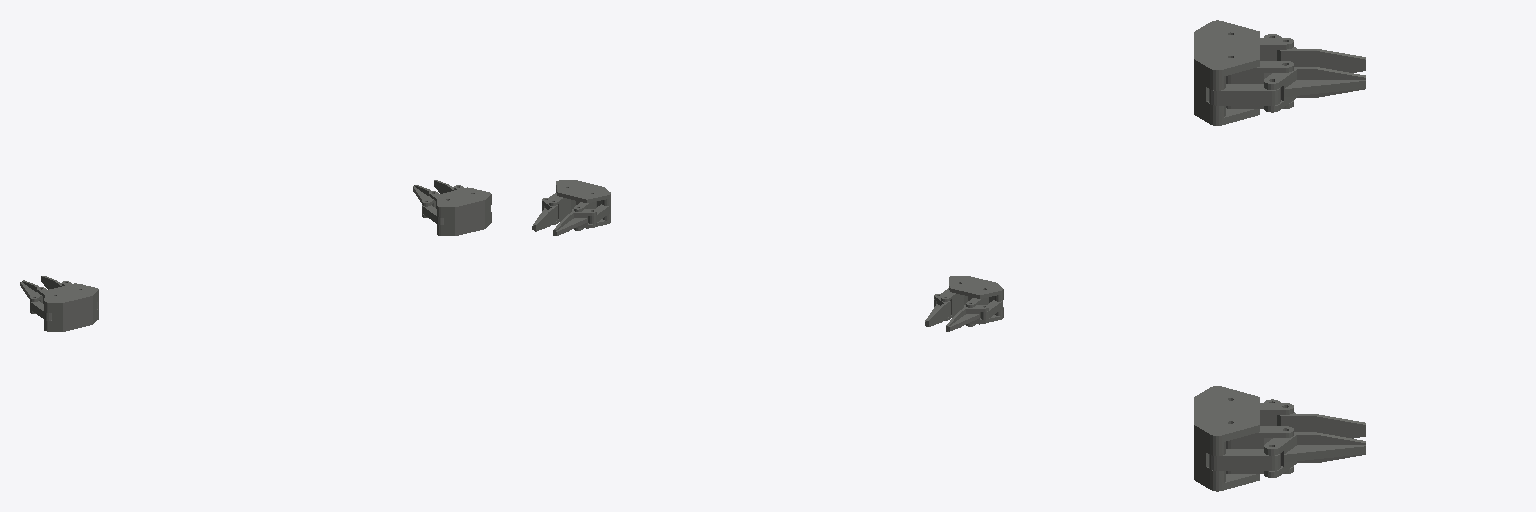
--- Facts derived from the render (not from the file) ---
Views: 3 orthographic renders of the robot side by side, from view 1: azimuth 30°, elevation 25°; view 2: azimuth 150°, elevation 25°; view 3: azimuth 270°, elevation 25°.
Robot: bimanual — 31 links, 30 joints (22 revolute, 2 continuous, 6 fixed); root link world; default pose: every joint at zero.
Links seen in each view (by area): view 1: right_gripper_base, left_gripper_base; view 2: left_gripper_base, right_gripper_base, right_l_finger, left_l_finger; view 3: right_gripper_base, left_gripper_base, right_r_finger, left_r_finger, left_l_finger, right_l_finger, left_r_outer, right_r_outer, left_r_inner, right_r_inner, right_l_inner, left_l_inner.
Link boxes in pixels (left/top/right/bottom): right_gripper_base: left=437, top=187, right=491, bottom=235; left_gripper_base: left=44, top=283, right=98, bottom=331; left_gripper_base: left=949, top=276, right=1003, bottom=324; right_gripper_base: left=556, top=180, right=610, bottom=228; right_l_finger: left=553, top=209, right=596, bottom=235; left_l_finger: left=946, top=305, right=988, bottom=331; right_gripper_base: left=1194, top=386, right=1259, bottom=491; left_gripper_base: left=1194, top=20, right=1259, bottom=125; right_r_finger: left=1264, top=432, right=1365, bottom=477; left_r_finger: left=1264, top=67, right=1365, bottom=112; left_l_finger: left=1264, top=34, right=1365, bottom=72; right_l_finger: left=1264, top=399, right=1365, bottom=438; left_r_outer: left=1209, top=84, right=1280, bottom=105; right_r_outer: left=1209, top=449, right=1280, bottom=470; left_r_inner: left=1226, top=61, right=1293, bottom=108; right_r_inner: left=1226, top=426, right=1293, bottom=473; right_l_inner: left=1260, top=403, right=1293, bottom=425; left_l_inner: left=1260, top=38, right=1293, bottom=60.
Bounding box of the posed robot: 1.14 × 0.1979 × 0.0709 m (x, y, z).
Meshes: 13 distinct files referenced, 14 mesh visuals loaded (6 Collada DAE); not drawn: 14 (reference not matched to a file when rendering).

URDF robot description (bimanual):
<?xml version="1.0" ?>
<!-- =================================================================================== -->
<!-- |    This document was autogenerated by xacro from [local-path]/catkin_ws/src/grips/grips_description/robots/bimanual.xacro | -->
<!-- |    EDITING THIS FILE BY HAND IS NOT RECOMMENDED                                 | -->
<!-- =================================================================================== -->
<robot name="bimanual" xmlns:xacro="http://www.ros.org/wiki/xacro">
  <!-- Import common macros-->
  <!-- Import materials for rviz-->
  <material name="black">
    <color rgba="0.0 0.0 0.0 1.0"/>
  </material>
  <material name="blue">
    <color rgba="0.0 0.0 0.8 1.0"/>
  </material>
  <material name="green">
    <color rgba="0.0 0.8 0.0 1.0"/>
  </material>
  <material name="grey">
    <color rgba="0.2 0.2 0.2 1.0"/>
  </material>
  <material name="orange">
    <color rgba="1.0 0.423529411765 0.0392156862745 1.0"/>
  </material>
  <material name="brown">
    <color rgba="0.870588235294 0.811764705882 0.764705882353 1.0"/>
  </material>
  <material name="red">
    <color rgba="0.8 0.0 0.0 1.0"/>
  </material>
  <material name="white">
    <color rgba="1.0 1.0 1.0 1.0"/>
  </material>
  <material name="metal_seamed">
    <color rgba="0.4627450980392157 0.4666666666666667 0.4509803921568628 1.0"/>
  </material>
  <!-- Import robot without gripper -->
  <!-- Import simple gripper -->
  <!-- Create the grips robots -->
  <link name="left_base_link">
    <visual>
      <geometry>
        <mesh filename="package://grips_description/meshes/visual/base.dae"/>
      </geometry>
      <material name="black"/>
    </visual>
    <collision>
      <geometry>
        <mesh filename="package://grips_description/meshes/collision/base.dae"/>
      </geometry>
    </collision>
    <inertial>
      <origin rpy="0 0 0" xyz="0 0 7e-3"/>
      <mass value="1.208"/>
      <inertia ixx="0.003" ixy="0.0" ixz="0.0" iyy="0.003" iyz="0.0" izz="0.006"/>
    </inertial>
  </link>
  <link name="left_manifold">
    <visual>
      <geometry>
        <mesh filename="package://grips_description/meshes/visual/manifold.dae"/>
      </geometry>
      <material name="blue"/>
    </visual>
    <collision>
      <geometry>
        <mesh filename="package://grips_description/meshes/collision/manifold.dae"/>
      </geometry>
    </collision>
    <inertial>
      <origin rpy="0 0 0" xyz="0 2e-3 0.21"/>
      <mass value="41.111"/>
      <inertia ixx="0.549" ixy="-9.556e-5" ixz="-5.871e-5" iyy="0.855" iyz="2e-3" izz="0.605"/>
    </inertial>
  </link>
  <link name="left_upper_arm">
    <visual>
      <geometry>
        <mesh filename="package://grips_description/meshes/visual/upper_arm.dae"/>
      </geometry>
      <material name="black"/>
    </visual>
    <collision>
      <geometry>
        <mesh filename="package://grips_description/meshes/collision/upper_arm.dae"/>
      </geometry>
    </collision>
    <inertial>
      <origin rpy="0 0 0" xyz="0 5e-3 0.227"/>
      <mass value="3.592"/>
      <inertia ixx="0.103" ixy="0" ixz="0" iyy="0.106" iyz="0.004" izz="0.013"/>
    </inertial>
  </link>
  <link name="left_forearm">
    <visual>
      <geometry>
        <mesh filename="package://grips_description/meshes/visual/forearm.dae"/>
      </geometry>
      <material name="black"/>
    </visual>
    <collision>
      <geometry>
        <mesh filename="package://grips_description/meshes/collision/forearm.dae"/>
      </geometry>
    </collision>
    <inertial>
      <origin rpy="0 0 0" xyz="0 0.155337 0.012119"/>
      <mass value="4.935"/>
      <inertia ixx="0.073" ixy="0" ixz="0" iyy="0.009" iyz="0.004" izz="0.073"/>
    </inertial>
  </link>
  <link name="left_pitch">
    <visual>
      <geometry>
        <mesh filename="package://grips_description/meshes/visual/pitch.dae"/>
      </geometry>
      <material name="black"/>
    </visual>
    <collision>
      <geometry>
        <mesh filename="package://grips_description/meshes/collision/pitch.dae"/>
      </geometry>
    </collision>
    <inertial>
      <origin rpy="0 0 0" xyz="0 0.065 0"/>
      <mass value="0.679"/>
      <inertia ixx="0.003" ixy="0" ixz="0" iyy="0.002" iyz="0.004" izz="0.002"/>
    </inertial>
  </link>
  <link name="left_yaw">
    <visual>
      <geometry>
        <mesh filename="package://grips_description/meshes/visual/yaw.dae"/>
      </geometry>
      <material name="black"/>
    </visual>
    <collision>
      <geometry>
        <mesh filename="package://grips_description/meshes/collision/yaw.dae"/>
      </geometry>
    </collision>
    <inertial>
      <origin rpy="0 0 0" xyz="-1e-3 95.791e-3 18.273e-3"/>
      <mass value="4.689"/>
      <inertia ixx="0.027" ixy="1.597e-4" ixz="-2.174e-4" iyy="0.009" iyz="-0.003" izz="0.026"/>
    </inertial>
  </link>
  <link name="left_end_effector"/>
  <link name="left_camera">
    <visual>
      <geometry>
        <mesh filename="package://grips_description/meshes/visual/camera.dae"/>
      </geometry>
      <material name="black"/>
    </visual>
    <collision>
      <geometry>
        <mesh filename="package://grips_description/meshes/collision/camera.dae"/>
      </geometry>
    </collision>
    <inertial>
      <origin rpy="0 0 0" xyz="0.077 0.007 0.002"/>
      <mass value="0.869"/>
      <inertia ixx="0.001" ixy="-1.561e-4" ixz="-5.859e-5" iyy="0.002" iyz="3.295e-5" izz="0.002"/>
    </inertial>
  </link>
  <joint name="left_SA" type="revolute">
    <child link="left_manifold"/>
    <parent link="left_base_link"/>
    <axis xyz="0 0 1"/>
    <origin rpy="0 0 0" xyz="0 0 15.24e-3"/>
    <limit effort="200" lower="-1.57079632679" upper="1.57079632679" velocity="1.3962634016"/>
    <dynamics damping="5"/>
  </joint>
  <joint name="left_SE" type="revolute">
    <child link="left_upper_arm"/>
    <parent link="left_manifold"/>
    <axis xyz="1 0 0"/>
    <origin rpy="0 0 0" xyz="0 0 0.33812"/>
    <limit effort="200" lower="-1.57079632679" upper="0.523598775598" velocity="1.1344640138"/>
    <dynamics damping="5" friction="10"/>
  </joint>
  <joint name="left_linkage_tr" type="revolute">
    <child link="left_forearm"/>
    <parent link="left_upper_arm"/>
    <axis xyz="1 0 0"/>
    <origin rpy="0 0 0" xyz="0 -9.82e-3 0.52167"/>
    <limit effort="200" lower="-1.28" upper="1.0471975512" velocity="0.872664625997"/>
    <dynamics damping="10"/>
  </joint>
  <joint name="left_WP" type="revolute">
    <child link="left_pitch"/>
    <parent link="left_forearm"/>
    <axis xyz="1 0 0"/>
    <origin rpy="0 0 0" xyz="0 0.26109 7.5e-3"/>
    <limit effort="200" lower="-0.581" upper="1.1" velocity="1.74532925199"/>
    <dynamics damping="5"/>
  </joint>
  <joint name="left_WY" type="revolute">
    <child link="left_yaw"/>
    <parent link="left_pitch"/>
    <axis xyz="0 0 1"/>
    <origin rpy="0 0 0" xyz="0 0.13322 0"/>
    <limit effort="200" lower="-1.01" upper="0.675" velocity="2.00712863979"/>
    <dynamics damping="5"/>
  </joint>
  <joint name="left_WR" type="continuous">
    <child link="left_end_effector"/>
    <parent link="left_yaw"/>
    <axis xyz="0 1 0"/>
    <origin rpy="0 0 0" xyz="-0.787e-3 0.190892 0.051331"/>
    <limit effort="200" velocity="3.49065850399"/>
    <dynamics damping="0.5"/>
  </joint>
  <joint name="left_camera_joint" type="fixed">
    <child link="left_camera"/>
    <parent link="left_yaw"/>
    <axis xyz="0 1 0"/>
    <origin rpy="0 0.523598775598 1.57079632679" xyz="0 0.095446 0.25"/>
  </joint>
  <transmission name="left_SA_tran">
    <type>transmission_interface/SimpleTransmission</type>
    <joint name="left_SA"/>
    <actuator name="left_SA_motor">
      <hardwareInterface>EffortJointInterface</hardwareInterface>
      <mechanicalReduction>1</mechanicalReduction>
    </actuator>
  </transmission>
  <transmission name="left_SE_tran">
    <type>transmission_interface/SimpleTransmission</type>
    <joint name="left_SE"/>
    <actuator name="left_SE_motor">
      <hardwareInterface>EffortJointInterface</hardwareInterface>
      <mechanicalReduction>1</mechanicalReduction>
    </actuator>
  </transmission>
  <transmission name="left_WP_tran">
    <type>transmission_interface/SimpleTransmission</type>
    <joint name="left_WP"/>
    <actuator name="left_WP_motor">
      <hardwareInterface>EffortJointInterface</hardwareInterface>
      <mechanicalReduction>1</mechanicalReduction>
    </actuator>
  </transmission>
  <transmission name="left_WY_tran">
    <type>transmission_interface/SimpleTransmission</type>
    <joint name="left_WY"/>
    <actuator name="left_WY_motor">
      <hardwareInterface>EffortJointInterface</hardwareInterface>
      <mechanicalReduction>1</mechanicalReduction>
    </actuator>
  </transmission>
  <transmission name="left_WR_tran">
    <type>transmission_interface/SimpleTransmission</type>
    <joint name="left_WR"/>
    <actuator name="left_WR_motor">
      <hardwareInterface>EffortJointInterface</hardwareInterface>
      <mechanicalReduction>1</mechanicalReduction>
    </actuator>
  </transmission>
  <transmission name="left_linkage_tr_tran">
    <type>transmission_interface/SimpleTransmission</type>
    <joint name="left_linkage_tr"/>
    <actuator name="left_linkage_tr_motor">
      <hardwareInterface>EffortJointInterface</hardwareInterface>
      <mechanicalReduction>1</mechanicalReduction>
    </actuator>
  </transmission>
  <gazebo reference="left_base_link">
    <material>Telerobcar/MetalSeamed</material>
    <selfCollide>false</selfCollide>
  </gazebo>
  <gazebo reference="left_manifold">
    <material>Telerobcar/MetalSeamed</material>
    <selfCollide>false</selfCollide>
  </gazebo>
  <gazebo reference="left_upper_arm">
    <material>Telerobcar/MetalSeamed</material>
    <selfCollide>false</selfCollide>
  </gazebo>
  <gazebo reference="left_forearm">
    <material>Telerobcar/MetalSeamed</material>
    <selfCollide>false</selfCollide>
  </gazebo>
  <gazebo reference="left_pitch">
    <material>Telerobcar/MetalSeamed</material>
    <selfCollide>false</selfCollide>
  </gazebo>
  <gazebo reference="left_yaw">
    <material>Telerobcar/MetalSeamed</material>
    <selfCollide>false</selfCollide>
  </gazebo>
  <gazebo reference="left_end_effector">
    <selfCollide>false</selfCollide>
  </gazebo>
  <gazebo reference="left_camera">
    <material>Gazebo/FlatBlack</material>
    <selfCollide>false</selfCollide>
    <sensor name="left_camera" type="camera">
      <update_rate>30.0</update_rate>
      <camera name="left_camera">
        <horizontal_fov>1.3962634</horizontal_fov>
        <image>
          <width>800</width>
          <height>800</height>
          <format>R8G8B8</format>
        </image>
        <clip>
          <near>0.02</near>
          <far>300</far>
        </clip>
      </camera>
      <plugin filename="libgazebo_ros_camera.so" name="camera_controller">
        <alwaysOn>true</alwaysOn>
        <updateRate>0.0</updateRate>
        <cameraName>left_camera</cameraName>
        <imageTopicName>image_raw</imageTopicName>
        <cameraInfoTopicName>camera_info</cameraInfoTopicName>
        <frameName>left_camera</frameName>
        <hackBaseline>0.07</hackBaseline>
        <distortionK1>0.0</distortionK1>
        <distortionK2>0.0</distortionK2>
        <distortionK3>0.0</distortionK3>
        <distortionT1>0.0</distortionT1>
        <distortionT2>0.0</distortionT2>
      </plugin>
    </sensor>
  </gazebo>
  <link name="right_base_link">
    <visual>
      <geometry>
        <mesh filename="package://grips_description/meshes/visual/base.dae"/>
      </geometry>
      <material name="black"/>
    </visual>
    <collision>
      <geometry>
        <mesh filename="package://grips_description/meshes/collision/base.dae"/>
      </geometry>
    </collision>
    <inertial>
      <origin rpy="0 0 0" xyz="0 0 7e-3"/>
      <mass value="1.208"/>
      <inertia ixx="0.003" ixy="0.0" ixz="0.0" iyy="0.003" iyz="0.0" izz="0.006"/>
    </inertial>
  </link>
  <link name="right_manifold">
    <visual>
      <geometry>
        <mesh filename="package://grips_description/meshes/visual/manifold.dae"/>
      </geometry>
      <material name="blue"/>
    </visual>
    <collision>
      <geometry>
        <mesh filename="package://grips_description/meshes/collision/manifold.dae"/>
      </geometry>
    </collision>
    <inertial>
      <origin rpy="0 0 0" xyz="0 2e-3 0.21"/>
      <mass value="41.111"/>
      <inertia ixx="0.549" ixy="-9.556e-5" ixz="-5.871e-5" iyy="0.855" iyz="2e-3" izz="0.605"/>
    </inertial>
  </link>
  <link name="right_upper_arm">
    <visual>
      <geometry>
        <mesh filename="package://grips_description/meshes/visual/upper_arm.dae"/>
      </geometry>
      <material name="black"/>
    </visual>
    <collision>
      <geometry>
        <mesh filename="package://grips_description/meshes/collision/upper_arm.dae"/>
      </geometry>
    </collision>
    <inertial>
      <origin rpy="0 0 0" xyz="0 5e-3 0.227"/>
      <mass value="3.592"/>
      <inertia ixx="0.103" ixy="0" ixz="0" iyy="0.106" iyz="0.004" izz="0.013"/>
    </inertial>
  </link>
  <link name="right_forearm">
    <visual>
      <geometry>
        <mesh filename="package://grips_description/meshes/visual/forearm.dae"/>
      </geometry>
      <material name="black"/>
    </visual>
    <collision>
      <geometry>
        <mesh filename="package://grips_description/meshes/collision/forearm.dae"/>
      </geometry>
    </collision>
    <inertial>
      <origin rpy="0 0 0" xyz="0 0.155337 0.012119"/>
      <mass value="4.935"/>
      <inertia ixx="0.073" ixy="0" ixz="0" iyy="0.009" iyz="0.004" izz="0.073"/>
    </inertial>
  </link>
  <link name="right_pitch">
    <visual>
      <geometry>
        <mesh filename="package://grips_description/meshes/visual/pitch.dae"/>
      </geometry>
      <material name="black"/>
    </visual>
    <collision>
      <geometry>
        <mesh filename="package://grips_description/meshes/collision/pitch.dae"/>
      </geometry>
    </collision>
    <inertial>
      <origin rpy="0 0 0" xyz="0 0.065 0"/>
      <mass value="0.679"/>
      <inertia ixx="0.003" ixy="0" ixz="0" iyy="0.002" iyz="0.004" izz="0.002"/>
    </inertial>
  </link>
  <link name="right_yaw">
    <visual>
      <geometry>
        <mesh filename="package://grips_description/meshes/visual/yaw.dae"/>
      </geometry>
      <material name="black"/>
    </visual>
    <collision>
      <geometry>
        <mesh filename="package://grips_description/meshes/collision/yaw.dae"/>
      </geometry>
    </collision>
    <inertial>
      <origin rpy="0 0 0" xyz="-1e-3 95.791e-3 18.273e-3"/>
      <mass value="4.689"/>
      <inertia ixx="0.027" ixy="1.597e-4" ixz="-2.174e-4" iyy="0.009" iyz="-0.003" izz="0.026"/>
    </inertial>
  </link>
  <link name="right_end_effector"/>
  <link name="right_camera">
    <visual>
      <geometry>
        <mesh filename="package://grips_description/meshes/visual/camera.dae"/>
      </geometry>
      <material name="black"/>
    </visual>
    <collision>
      <geometry>
        <mesh filename="package://grips_description/meshes/collision/camera.dae"/>
      </geometry>
    </collision>
    <inertial>
      <origin rpy="0 0 0" xyz="0.077 0.007 0.002"/>
      <mass value="0.869"/>
      <inertia ixx="0.001" ixy="-1.561e-4" ixz="-5.859e-5" iyy="0.002" iyz="3.295e-5" izz="0.002"/>
    </inertial>
  </link>
  <joint name="right_SA" type="revolute">
    <child link="right_manifold"/>
    <parent link="right_base_link"/>
    <axis xyz="0 0 1"/>
    <origin rpy="0 0 0" xyz="0 0 15.24e-3"/>
    <limit effort="200" lower="-1.57079632679" upper="1.57079632679" velocity="1.3962634016"/>
    <dynamics damping="5"/>
  </joint>
  <joint name="right_SE" type="revolute">
    <child link="right_upper_arm"/>
    <parent link="right_manifold"/>
    <axis xyz="1 0 0"/>
    <origin rpy="0 0 0" xyz="0 0 0.33812"/>
    <limit effort="200" lower="-1.57079632679" upper="0.523598775598" velocity="1.1344640138"/>
    <dynamics damping="5" friction="10"/>
  </joint>
  <joint name="right_linkage_tr" type="revolute">
    <child link="right_forearm"/>
    <parent link="right_upper_arm"/>
    <axis xyz="1 0 0"/>
    <origin rpy="0 0 0" xyz="0 -9.82e-3 0.52167"/>
    <limit effort="200" lower="-1.28" upper="1.0471975512" velocity="0.872664625997"/>
    <dynamics damping="10"/>
  </joint>
  <joint name="right_WP" type="revolute">
    <child link="right_pitch"/>
    <parent link="right_forearm"/>
    <axis xyz="1 0 0"/>
    <origin rpy="0 0 0" xyz="0 0.26109 7.5e-3"/>
    <limit effort="200" lower="-0.581" upper="1.1" velocity="1.74532925199"/>
    <dynamics damping="5"/>
  </joint>
  <joint name="right_WY" type="revolute">
    <child link="right_yaw"/>
    <parent link="right_pitch"/>
    <axis xyz="0 0 1"/>
    <origin rpy="0 0 0" xyz="0 0.13322 0"/>
    <limit effort="200" lower="-1.01" upper="0.675" velocity="2.00712863979"/>
    <dynamics damping="5"/>
  </joint>
  <joint name="right_WR" type="continuous">
    <child link="right_end_effector"/>
    <parent link="right_yaw"/>
    <axis xyz="0 1 0"/>
    <origin rpy="0 0 0" xyz="-0.787e-3 0.190892 0.051331"/>
    <limit effort="200" velocity="3.49065850399"/>
    <dynamics damping="0.5"/>
  </joint>
  <joint name="right_camera_joint" type="fixed">
    <child link="right_camera"/>
    <parent link="right_yaw"/>
    <axis xyz="0 1 0"/>
    <origin rpy="0 0.523598775598 1.57079632679" xyz="0 0.095446 0.25"/>
  </joint>
  <transmission name="right_SA_tran">
    <type>transmission_interface/SimpleTransmission</type>
    <joint name="right_SA"/>
    <actuator name="right_SA_motor">
      <hardwareInterface>EffortJointInterface</hardwareInterface>
      <mechanicalReduction>1</mechanicalReduction>
    </actuator>
  </transmission>
  <transmission name="right_SE_tran">
    <type>transmission_interface/SimpleTransmission</type>
    <joint name="right_SE"/>
    <actuator name="right_SE_motor">
      <hardwareInterface>EffortJointInterface</hardwareInterface>
      <mechanicalReduction>1</mechanicalReduction>
    </actuator>
  </transmission>
  <transmission name="right_WP_tran">
    <type>transmission_interface/SimpleTransmission</type>
    <joint name="right_WP"/>
    <actuator name="right_WP_motor">
      <hardwareInterface>EffortJointInterface</hardwareInterface>
      <mechanicalReduction>1</mechanicalReduction>
    </actuator>
  </transmission>
  <transmission name="right_WY_tran">
    <type>transmission_interface/SimpleTransmission</type>
    <joint name="right_WY"/>
    <actuator name="right_WY_motor">
      <hardwareInterface>EffortJointInterface</hardwareInterface>
      <mechanicalReduction>1</mechanicalReduction>
    </actuator>
  </transmission>
  <transmission name="right_WR_tran">
    <type>transmission_interface/SimpleTransmission</type>
    <joint name="right_WR"/>
    <actuator name="right_WR_motor">
      <hardwareInterface>EffortJointInterface</hardwareInterface>
      <mechanicalReduction>1</mechanicalReduction>
    </actuator>
  </transmission>
  <transmission name="right_linkage_tr_tran">
    <type>transmission_interface/SimpleTransmission</type>
    <joint name="right_linkage_tr"/>
    <actuator name="right_linkage_tr_motor">
      <hardwareInterface>EffortJointInterface</hardwareInterface>
      <mechanicalReduction>1</mechanicalReduction>
    </actuator>
  </transmission>
  <gazebo reference="right_base_link">
    <material>Telerobcar/MetalSeamed</material>
    <selfCollide>false</selfCollide>
  </gazebo>
  <gazebo reference="right_manifold">
    <material>Telerobcar/MetalSeamed</material>
    <selfCollide>false</selfCollide>
  </gazebo>
  <gazebo reference="right_upper_arm">
    <material>Telerobcar/MetalSeamed</material>
    <selfCollide>false</selfCollide>
  </gazebo>
  <gazebo reference="right_forearm">
    <material>Telerobcar/MetalSeamed</material>
    <selfCollide>false</selfCollide>
  </gazebo>
  <gazebo reference="right_pitch">
    <material>Telerobcar/MetalSeamed</material>
    <selfCollide>false</selfCollide>
  </gazebo>
  <gazebo reference="right_yaw">
    <material>Telerobcar/MetalSeamed</material>
    <selfCollide>false</selfCollide>
  </gazebo>
  <gazebo reference="right_end_effector">
    <selfCollide>false</selfCollide>
  </gazebo>
  <gazebo reference="right_camera">
    <material>Gazebo/FlatBlack</material>
    <selfCollide>false</selfCollide>
    <sensor name="right_camera" type="camera">
      <update_rate>30.0</update_rate>
      <camera name="right_camera">
        <horizontal_fov>1.3962634</horizontal_fov>
        <image>
          <width>800</width>
          <height>800</height>
          <format>R8G8B8</format>
        </image>
        <clip>
          <near>0.02</near>
          <far>300</far>
        </clip>
      </camera>
      <plugin filename="libgazebo_ros_camera.so" name="camera_controller">
        <alwaysOn>true</alwaysOn>
        <updateRate>0.0</updateRate>
        <cameraName>right_camera</cameraName>
        <imageTopicName>image_raw</imageTopicName>
        <cameraInfoTopicName>camera_info</cameraInfoTopicName>
        <frameName>right_camera</frameName>
        <hackBaseline>0.07</hackBaseline>
        <distortionK1>0.0</distortionK1>
        <distortionK2>0.0</distortionK2>
        <distortionK3>0.0</distortionK3>
        <distortionT1>0.0</distortionT1>
        <distortionT2>0.0</distortionT2>
      </plugin>
    </sensor>
  </gazebo>
  <!-- Create the grippers -->
  <link name="left_gripper_base">
    <visual>
      <geometry>
        <mesh filename="package://grips_description/meshes/visual/gripper_base.dae"/>
      </geometry>
      <material name="metal_seamed"/>
    </visual>
    <collision>
      <geometry>
        <mesh filename="package://grips_description/meshes/visual/gripper_base.dae"/>
      </geometry>
    </collision>
    <inertial>
      <origin rpy="0 0 0" xyz="0 26.28e-3 0"/>
      <mass value="0.923"/>
      <inertia ixx="0.003" ixy="0.0" ixz="0.0" iyy="0.003" iyz="0.0" izz="0.006"/>
    </inertial>
  </link>
  <link name="left_r_outer">
    <visual>
      <geometry>
        <mesh filename="package://grips_description/meshes/visual/outer_pivot.dae"/>
      </geometry>
      <material name="metal_seamed"/>
    </visual>
    <collision>
      <geometry>
        <mesh filename="package://grips_description/meshes/visual/outer_pivot.dae"/>
      </geometry>
    </collision>
    <inertial>
      <origin rpy="0 0 0" xyz="0 31.725e-3 0"/>
      <mass value="0.091"/>
      <inertia ixx="4.664e-5" ixy="0.0" ixz="0.0" iyy="5.519e-6" iyz="0.0" izz="4.682e-5"/>
    </inertial>
  </link>
  <link name="left_l_outer">
    <visual>
      <geometry>
        <mesh filename="package://grips_description/meshes/visual/outer_pivot.dae"/>
      </geometry>
      <material name="metal_seamed"/>
    </visual>
    <collision>
      <geometry>
        <mesh filename="package://grips_description/meshes/visual/outer_pivot.dae"/>
      </geometry>
    </collision>
    <inertial>
      <origin rpy="0 0 0" xyz="0 31.725e-3 0"/>
      <mass value="0.091"/>
      <inertia ixx="4.664e-5" ixy="0.0" ixz="0.0" iyy="5.519e-6" iyz="0.0" izz="4.682e-5"/>
    </inertial>
  </link>
  <link name="left_r_inner">
    <visual>
      <geometry>
        <mesh filename="package://grips_description/meshes/visual/r_inner_pivot.dae"/>
      </geometry>
      <material name="metal_seamed"/>
    </visual>
    <collision>
      <geometry>
        <mesh filename="package://grips_description/meshes/visual/r_inner_pivot.dae"/>
      </geometry>
    </collision>
    <inertial>
      <origin rpy="0 0 0" xyz="-0.316e-3 23.873e-3 0"/>
      <mass value="0.194"/>
      <inertia ixx="1.179e-4" ixy="1.347e-6" ixz="0.0" iyy="5.647e-5" iyz="0.0" izz="7.353e-5"/>
    </inertial>
  </link>
  <link name="left_l_inner">
    <visual>
      <geometry>
        <mesh filename="package://grips_description/meshes/visual/l_inner_pivot.dae"/>
      </geometry>
      <material name="metal_seamed"/>
    </visual>
    <collision>
      <geometry>
        <mesh filename="package://grips_description/meshes/visual/l_inner_pivot.dae"/>
      </geometry>
    </collision>
    <inertial>
      <origin rpy="0 0 0" xyz="0.316e-3 23.873e-3 0"/>
      <mass value="0.194"/>
      <inertia ixx="1.179e-4" ixy="-1.347e-6" ixz="0.0" iyy="5.647e-5" iyz="0.0" izz="7.353e-5"/>
    </inertial>
  </link>
  <link name="left_r_finger">
    <visual>
      <geometry>
        <mesh filename="package://grips_description/meshes/visual/r_finger.dae"/>
      </geometry>
      <material name="metal_seamed"/>
    </visual>
    <collision>
      <geometry>
        <mesh filename="package://grips_description/meshes/visual/r_finger.dae"/>
      </geometry>
    </collision>
    <inertial>
      <origin rpy="0 0 0" xyz="3.441e-3 20.353e-3 0"/>
      <mass value="0.174"/>
      <inertia ixx="1.65e-4" ixy="3.16e-5" ixz="0.0" iyy="3.595e-5" iyz="0.0" izz="1.701e-4"/>
    </inertial>
  </link>
  <link name="left_l_finger">
    <visual>
      <geometry>
        <mesh filename="package://grips_description/meshes/visual/l_finger.dae"/>
      </geometry>
      <material name="metal_seamed"/>
    </visual>
    <collision>
      <geometry>
        <mesh filename="package://grips_description/meshes/visual/l_finger.dae"/>
      </geometry>
    </collision>
    <inertial>
      <origin rpy="0 0 0" xyz="-3.441e-3 20.353e-3 0"/>
      <mass value="0.174"/>
      <inertia ixx="1.65e-4" ixy="-3.16e-5" ixz="0.0" iyy="3.595e-5" iyz="0.0" izz="1.701e-4"/>
    </inertial>
  </link>
  <joint name="left_r_inner" type="revolute">
    <child link="left_r_inner"/>
    <parent link="left_gripper_base"/>
    <axis xyz="0 0 1"/>
    <origin rpy="0 0 0" xyz="31.737e-3 42.19e-3 0"/>
    <limit effort="200" lower="-1.43" upper="0.4" velocity="15"/>
    <dynamics damping="0.1"/>
  </joint>
  <joint name="left_l_inner" type="revolute">
    <child link="left_l_inner"/>
    <parent link="left_gripper_base"/>
    <axis xyz="0 0 1"/>
    <origin rpy="0 0 0" xyz="-31.737e-3 42.19e-3 0"/>
    <limit effort="200" lower="-0.4" upper="1.43" velocity="15"/>
    <dynamics damping="0.1"/>
  </joint>
  <joint name="left_r_outer" type="revolute">
    <child link="left_r_outer"/>
    <parent link="left_gripper_base"/>
    <axis xyz="0 0 1"/>
    <origin rpy="0 0 0" xyz="58.93e-3 26.49e-3 0"/>
    <limit effort="200" lower="-1.43" upper="0.4" velocity="15"/>
    <dynamics damping="0.1"/>
  </joint>
  <joint name="left_l_outer" type="revolute">
    <child link="left_l_outer"/>
    <parent link="left_gripper_base"/>
    <axis xyz="0 0 1"/>
    <origin rpy="0 0 0" xyz="-58.93e-3 26.49e-3 0"/>
    <limit effort="200" lower="-0.4" upper="1.43" velocity="15"/>
    <dynamics damping="0.1"/>
  </joint>
  <joint name="left_r_finger" type="revolute">
    <child link="left_r_finger"/>
    <parent link="left_r_inner"/>
    <axis xyz="0 0 1"/>
    <origin rpy="0 0 0" xyz="0 63.45e-3 0"/>
    <limit effort="200" lower="-1.57079632679" upper="1.57079632679" velocity="15"/>
    <dynamics damping="0.1"/>
  </joint>
  <joint name="left_l_finger" type="revolute">
    <child link="left_l_finger"/>
    <parent link="left_l_inner"/>
    <axis xyz="0 0 1"/>
    <origin rpy="0 0 0" xyz="0 63.45e-3 0"/>
    <limit effort="200" lower="-1.57079632679" upper="1.57079632679" velocity="15"/>
    <dynamics damping="0.1"/>
  </joint>
  <transmission name="left_r_outer_tran">
    <type>transmission_interface/SimpleTransmission</type>
    <joint name="left_r_outer"/>
    <actuator name="left_r_outer_motor">
      <hardwareInterface>EffortJointInterface</hardwareInterface>
      <mechanicalReduction>1</mechanicalReduction>
    </actuator>
  </transmission>
  <transmission name="left_l_outer_tran">
    <type>transmission_interface/SimpleTransmission</type>
    <joint name="left_l_outer"/>
    <actuator name="left_l_outer_motor">
      <hardwareInterface>EffortJointInterface</hardwareInterface>
      <mechanicalReduction>1</mechanicalReduction>
    </actuator>
  </transmission>
  <transmission name="left_r_inner_tran">
    <type>transmission_interface/SimpleTransmission</type>
    <joint name="left_r_inner"/>
    <actuator name="left_r_inner_motor">
      <hardwareInterface>EffortJointInterface</hardwareInterface>
      <mechanicalReduction>1</mechanicalReduction>
    </actuator>
  </transmission>
  <transmission name="left_l_inner_tran">
    <type>transmission_interface/SimpleTransmission</type>
    <joint name="left_l_inner"/>
    <actuator name="left_l_inner_motor">
      <hardwareInterface>EffortJointInterface</hardwareInterface>
      <mechanicalReduction>1</mechanicalReduction>
    </actuator>
  </transmission>
  <transmission name="left_r_finger_tran">
    <type>transmission_interface/SimpleTransmission</type>
    <joint name="left_r_finger"/>
    <actuator name="left_r_finger_motor">
      <hardwareInterface>EffortJointInterface</hardwareInterface>
      <mechanicalReduction>1</mechanicalReduction>
    </actuator>
  </transmission>
  <transmission name="left_l_finger_tran">
    <type>transmission_interface/SimpleTransmission</type>
    <joint name="left_l_finger"/>
    <actuator name="left_l_finger_motor">
      <hardwareInterface>EffortJointInterface</hardwareInterface>
      <mechanicalReduction>1</mechanicalReduction>
    </actuator>
  </transmission>
  <gazebo reference="left_gripper_base">
    <material>Telerobcar/MetalSeamed</material>
    <selfCollide>false</selfCollide>
  </gazebo>
  <gazebo reference="left_r_outer">
    <material>Telerobcar/MetalSeamed</material>
    <selfCollide>false</selfCollide>
  </gazebo>
  <gazebo reference="left_l_outer">
    <material>Telerobcar/MetalSeamed</material>
    <selfCollide>false</selfCollide>
  </gazebo>
  <gazebo reference="left_r_inner">
    <material>Telerobcar/MetalSeamed</material>
    <selfCollide>false</selfCollide>
  </gazebo>
  <gazebo reference="left_l_inner">
    <material>Telerobcar/MetalSeamed</material>
    <selfCollide>false</selfCollide>
  </gazebo>
  <gazebo reference="left_r_finger">
    <material>Telerobcar/MetalSeamed</material>
    <selfCollide>false</selfCollide>
    <mu1>1.1</mu1>
    <mu2>1.1</mu2>
    <fdir1>0 0 1</fdir1>
    <kp>1000000.0</kp>
    <kd>10.0</kd>
    <maxVel>0.1</maxVel>
    <minDepth>0.001</minDepth>
    <maxContacts>5</maxContacts>
  </gazebo>
  <gazebo reference="left_l_finger">
    <material>Telerobcar/MetalSeamed</material>
    <selfCollide>false</selfCollide>
    <mu1>1.1</mu1>
    <mu2>1.1</mu2>
    <fdir1>0 0 1</fdir1>
    <kp>1000000.0</kp>
    <kd>100.0</kd>
    <maxVel>0.1</maxVel>
    <minDepth>0.001</minDepth>
    <maxContacts>5</maxContacts>
  </gazebo>
  <gazebo>
    <gripper name="left_grasping">
      <grasp_check>
        <attach_steps>1</attach_steps>
        <!-- default: 20 -->
        <detach_steps>1</detach_steps>
        <!-- default: 40 -->
        <min_contact_count>2</min_contact_count>
      </grasp_check>
      <gripper_link>left_r_finger</gripper_link>
      <gripper_link>left_l_finger</gripper_link>
      <palm_link>left_gripper_base</palm_link>
    </gripper>
  </gazebo>
  <link name="right_gripper_base">
    <visual>
      <geometry>
        <mesh filename="package://grips_description/meshes/visual/gripper_base.dae"/>
      </geometry>
      <material name="metal_seamed"/>
    </visual>
    <collision>
      <geometry>
        <mesh filename="package://grips_description/meshes/visual/gripper_base.dae"/>
      </geometry>
    </collision>
    <inertial>
      <origin rpy="0 0 0" xyz="0 26.28e-3 0"/>
      <mass value="0.923"/>
      <inertia ixx="0.003" ixy="0.0" ixz="0.0" iyy="0.003" iyz="0.0" izz="0.006"/>
    </inertial>
  </link>
  <link name="right_r_outer">
    <visual>
      <geometry>
        <mesh filename="package://grips_description/meshes/visual/outer_pivot.dae"/>
      </geometry>
      <material name="metal_seamed"/>
    </visual>
    <collision>
      <geometry>
        <mesh filename="package://grips_description/meshes/visual/outer_pivot.dae"/>
      </geometry>
    </collision>
    <inertial>
      <origin rpy="0 0 0" xyz="0 31.725e-3 0"/>
      <mass value="0.091"/>
      <inertia ixx="4.664e-5" ixy="0.0" ixz="0.0" iyy="5.519e-6" iyz="0.0" izz="4.682e-5"/>
    </inertial>
  </link>
  <link name="right_l_outer">
    <visual>
      <geometry>
        <mesh filename="package://grips_description/meshes/visual/outer_pivot.dae"/>
      </geometry>
      <material name="metal_seamed"/>
    </visual>
    <collision>
      <geometry>
        <mesh filename="package://grips_description/meshes/visual/outer_pivot.dae"/>
      </geometry>
    </collision>
    <inertial>
      <origin rpy="0 0 0" xyz="0 31.725e-3 0"/>
      <mass value="0.091"/>
      <inertia ixx="4.664e-5" ixy="0.0" ixz="0.0" iyy="5.519e-6" iyz="0.0" izz="4.682e-5"/>
    </inertial>
  </link>
  <link name="right_r_inner">
    <visual>
      <geometry>
        <mesh filename="package://grips_description/meshes/visual/r_inner_pivot.dae"/>
      </geometry>
      <material name="metal_seamed"/>
    </visual>
    <collision>
      <geometry>
        <mesh filename="package://grips_description/meshes/visual/r_inner_pivot.dae"/>
      </geometry>
    </collision>
    <inertial>
      <origin rpy="0 0 0" xyz="-0.316e-3 23.873e-3 0"/>
      <mass value="0.194"/>
      <inertia ixx="1.179e-4" ixy="1.347e-6" ixz="0.0" iyy="5.647e-5" iyz="0.0" izz="7.353e-5"/>
    </inertial>
  </link>
  <link name="right_l_inner">
    <visual>
      <geometry>
        <mesh filename="package://grips_description/meshes/visual/l_inner_pivot.dae"/>
      </geometry>
      <material name="metal_seamed"/>
    </visual>
    <collision>
      <geometry>
        <mesh filename="package://grips_description/meshes/visual/l_inner_pivot.dae"/>
      </geometry>
    </collision>
    <inertial>
      <origin rpy="0 0 0" xyz="0.316e-3 23.873e-3 0"/>
      <mass value="0.194"/>
      <inertia ixx="1.179e-4" ixy="-1.347e-6" ixz="0.0" iyy="5.647e-5" iyz="0.0" izz="7.353e-5"/>
    </inertial>
  </link>
  <link name="right_r_finger">
    <visual>
      <geometry>
        <mesh filename="package://grips_description/meshes/visual/r_finger.dae"/>
      </geometry>
      <material name="metal_seamed"/>
    </visual>
    <collision>
      <geometry>
        <mesh filename="package://grips_description/meshes/visual/r_finger.dae"/>
      </geometry>
    </collision>
    <inertial>
      <origin rpy="0 0 0" xyz="3.441e-3 20.353e-3 0"/>
      <mass value="0.174"/>
      <inertia ixx="1.65e-4" ixy="3.16e-5" ixz="0.0" iyy="3.595e-5" iyz="0.0" izz="1.701e-4"/>
    </inertial>
  </link>
  <link name="right_l_finger">
    <visual>
      <geometry>
        <mesh filename="package://grips_description/meshes/visual/l_finger.dae"/>
      </geometry>
      <material name="metal_seamed"/>
    </visual>
    <collision>
      <geometry>
        <mesh filename="package://grips_description/meshes/visual/l_finger.dae"/>
      </geometry>
    </collision>
    <inertial>
      <origin rpy="0 0 0" xyz="-3.441e-3 20.353e-3 0"/>
      <mass value="0.174"/>
      <inertia ixx="1.65e-4" ixy="-3.16e-5" ixz="0.0" iyy="3.595e-5" iyz="0.0" izz="1.701e-4"/>
    </inertial>
  </link>
  <joint name="right_r_inner" type="revolute">
    <child link="right_r_inner"/>
    <parent link="right_gripper_base"/>
    <axis xyz="0 0 1"/>
    <origin rpy="0 0 0" xyz="31.737e-3 42.19e-3 0"/>
    <limit effort="200" lower="-1.43" upper="0.4" velocity="15"/>
    <dynamics damping="0.1"/>
  </joint>
  <joint name="right_l_inner" type="revolute">
    <child link="right_l_inner"/>
    <parent link="right_gripper_base"/>
    <axis xyz="0 0 1"/>
    <origin rpy="0 0 0" xyz="-31.737e-3 42.19e-3 0"/>
    <limit effort="200" lower="-0.4" upper="1.43" velocity="15"/>
    <dynamics damping="0.1"/>
  </joint>
  <joint name="right_r_outer" type="revolute">
    <child link="right_r_outer"/>
    <parent link="right_gripper_base"/>
    <axis xyz="0 0 1"/>
    <origin rpy="0 0 0" xyz="58.93e-3 26.49e-3 0"/>
    <limit effort="200" lower="-1.43" upper="0.4" velocity="15"/>
    <dynamics damping="0.1"/>
  </joint>
  <joint name="right_l_outer" type="revolute">
    <child link="right_l_outer"/>
    <parent link="right_gripper_base"/>
    <axis xyz="0 0 1"/>
    <origin rpy="0 0 0" xyz="-58.93e-3 26.49e-3 0"/>
    <limit effort="200" lower="-0.4" upper="1.43" velocity="15"/>
    <dynamics damping="0.1"/>
  </joint>
  <joint name="right_r_finger" type="revolute">
    <child link="right_r_finger"/>
    <parent link="right_r_inner"/>
    <axis xyz="0 0 1"/>
    <origin rpy="0 0 0" xyz="0 63.45e-3 0"/>
    <limit effort="200" lower="-1.57079632679" upper="1.57079632679" velocity="15"/>
    <dynamics damping="0.1"/>
  </joint>
  <joint name="right_l_finger" type="revolute">
    <child link="right_l_finger"/>
    <parent link="right_l_inner"/>
    <axis xyz="0 0 1"/>
    <origin rpy="0 0 0" xyz="0 63.45e-3 0"/>
    <limit effort="200" lower="-1.57079632679" upper="1.57079632679" velocity="15"/>
    <dynamics damping="0.1"/>
  </joint>
  <transmission name="right_r_outer_tran">
    <type>transmission_interface/SimpleTransmission</type>
    <joint name="right_r_outer"/>
    <actuator name="right_r_outer_motor">
      <hardwareInterface>EffortJointInterface</hardwareInterface>
      <mechanicalReduction>1</mechanicalReduction>
    </actuator>
  </transmission>
  <transmission name="right_l_outer_tran">
    <type>transmission_interface/SimpleTransmission</type>
    <joint name="right_l_outer"/>
    <actuator name="right_l_outer_motor">
      <hardwareInterface>EffortJointInterface</hardwareInterface>
      <mechanicalReduction>1</mechanicalReduction>
    </actuator>
  </transmission>
  <transmission name="right_r_inner_tran">
    <type>transmission_interface/SimpleTransmission</type>
    <joint name="right_r_inner"/>
    <actuator name="right_r_inner_motor">
      <hardwareInterface>EffortJointInterface</hardwareInterface>
      <mechanicalReduction>1</mechanicalReduction>
    </actuator>
  </transmission>
  <transmission name="right_l_inner_tran">
    <type>transmission_interface/SimpleTransmission</type>
    <joint name="right_l_inner"/>
    <actuator name="right_l_inner_motor">
      <hardwareInterface>EffortJointInterface</hardwareInterface>
      <mechanicalReduction>1</mechanicalReduction>
    </actuator>
  </transmission>
  <transmission name="right_r_finger_tran">
    <type>transmission_interface/SimpleTransmission</type>
    <joint name="right_r_finger"/>
    <actuator name="right_r_finger_motor">
      <hardwareInterface>EffortJointInterface</hardwareInterface>
      <mechanicalReduction>1</mechanicalReduction>
    </actuator>
  </transmission>
  <transmission name="right_l_finger_tran">
    <type>transmission_interface/SimpleTransmission</type>
    <joint name="right_l_finger"/>
    <actuator name="right_l_finger_motor">
      <hardwareInterface>EffortJointInterface</hardwareInterface>
      <mechanicalReduction>1</mechanicalReduction>
    </actuator>
  </transmission>
  <gazebo reference="right_gripper_base">
    <material>Telerobcar/MetalSeamed</material>
    <selfCollide>false</selfCollide>
  </gazebo>
  <gazebo reference="right_r_outer">
    <material>Telerobcar/MetalSeamed</material>
    <selfCollide>false</selfCollide>
  </gazebo>
  <gazebo reference="right_l_outer">
    <material>Telerobcar/MetalSeamed</material>
    <selfCollide>false</selfCollide>
  </gazebo>
  <gazebo reference="right_r_inner">
    <material>Telerobcar/MetalSeamed</material>
    <selfCollide>false</selfCollide>
  </gazebo>
  <gazebo reference="right_l_inner">
    <material>Telerobcar/MetalSeamed</material>
    <selfCollide>false</selfCollide>
  </gazebo>
  <gazebo reference="right_r_finger">
    <material>Telerobcar/MetalSeamed</material>
    <selfCollide>false</selfCollide>
    <mu1>1.1</mu1>
    <mu2>1.1</mu2>
    <fdir1>0 0 1</fdir1>
    <kp>1000000.0</kp>
    <kd>10.0</kd>
    <maxVel>0.1</maxVel>
    <minDepth>0.001</minDepth>
    <maxContacts>5</maxContacts>
  </gazebo>
  <gazebo reference="right_l_finger">
    <material>Telerobcar/MetalSeamed</material>
    <selfCollide>false</selfCollide>
    <mu1>1.1</mu1>
    <mu2>1.1</mu2>
    <fdir1>0 0 1</fdir1>
    <kp>1000000.0</kp>
    <kd>100.0</kd>
    <maxVel>0.1</maxVel>
    <minDepth>0.001</minDepth>
    <maxContacts>5</maxContacts>
  </gazebo>
  <gazebo>
    <gripper name="right_grasping">
      <grasp_check>
        <attach_steps>1</attach_steps>
        <!-- default: 20 -->
        <detach_steps>1</detach_steps>
        <!-- default: 40 -->
        <min_contact_count>2</min_contact_count>
      </grasp_check>
      <gripper_link>right_r_finger</gripper_link>
      <gripper_link>right_l_finger</gripper_link>
      <palm_link>right_gripper_base</palm_link>
    </gripper>
  </gazebo>
  <!-- Fix the grippers to the robot -->
  <joint name="left_gripper_anchor" type="fixed">
    <origin rpy="0 0 0" xyz="0 0 0"/>
    <parent link="left_end_effector"/>
    <child link="left_gripper_base"/>
  </joint>
  <joint name="right_gripper_anchor" type="fixed">
    <origin rpy="0 0 0" xyz="0 0 0"/>
    <parent link="right_end_effector"/>
    <child link="right_gripper_base"/>
  </joint>
  <!-- Used for fixing the robots to Gazebo -->
  <link name="world"/>
  <joint name="left_anchor" type="fixed">
    <origin rpy="0 0 0" xyz="0 0 0.801"/>
    <parent link="world"/>
    <child link="left_base_link"/>
  </joint>
  <joint name="right_anchor" type="fixed">
    <origin rpy="0 0 0" xyz="1 0 0.801"/>
    <parent link="world"/>
    <child link="right_base_link"/>
  </joint>
  <!-- ros_control plugin -->
  <gazebo>
    <plugin filename="libgazebo_ros_control.so" name="ros_control">
    </plugin>
  </gazebo>
</robot>
